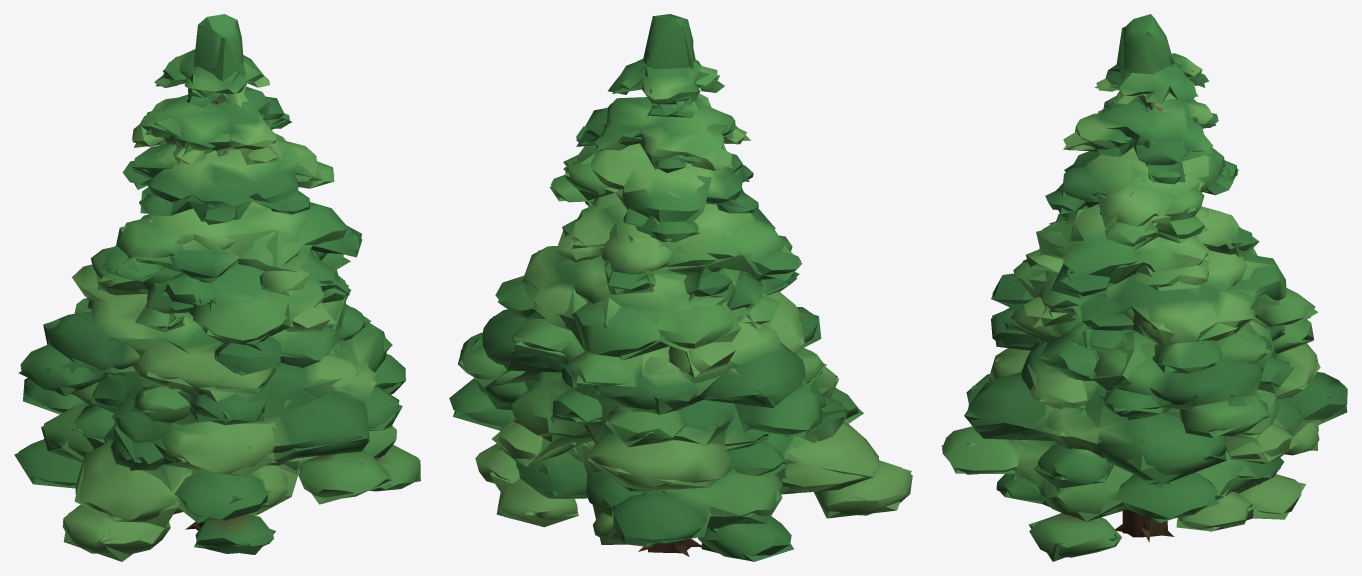
The model's file is pine_mature.glb.
3 renders of one model, left to right at view 1: azimuth 30°, elevation 25°; view 2: azimuth 150°, elevation 25°; view 3: azimuth 270°, elevation 25°, orthographic. The views are drawn at different scales.
Visible parts, largest first — view 1: pine_mature_LOD1, pine_mature_LOD2; view 2: pine_mature_LOD1, pine_mature_LOD2; view 3: pine_mature_LOD1, pine_mature_LOD2.
Boxes of the visible parts, x1,y1,x2,y2 form: pine_mature_LOD1: (18, 14, 418, 554); pine_mature_LOD2: (14, 24, 420, 561); pine_mature_LOD1: (449, 14, 912, 560); pine_mature_LOD2: (453, 17, 911, 561); pine_mature_LOD1: (942, 14, 1347, 557); pine_mature_LOD2: (941, 27, 1347, 561).
Size of the model in its own units: 4.67 by 6.01 by 4.31.
